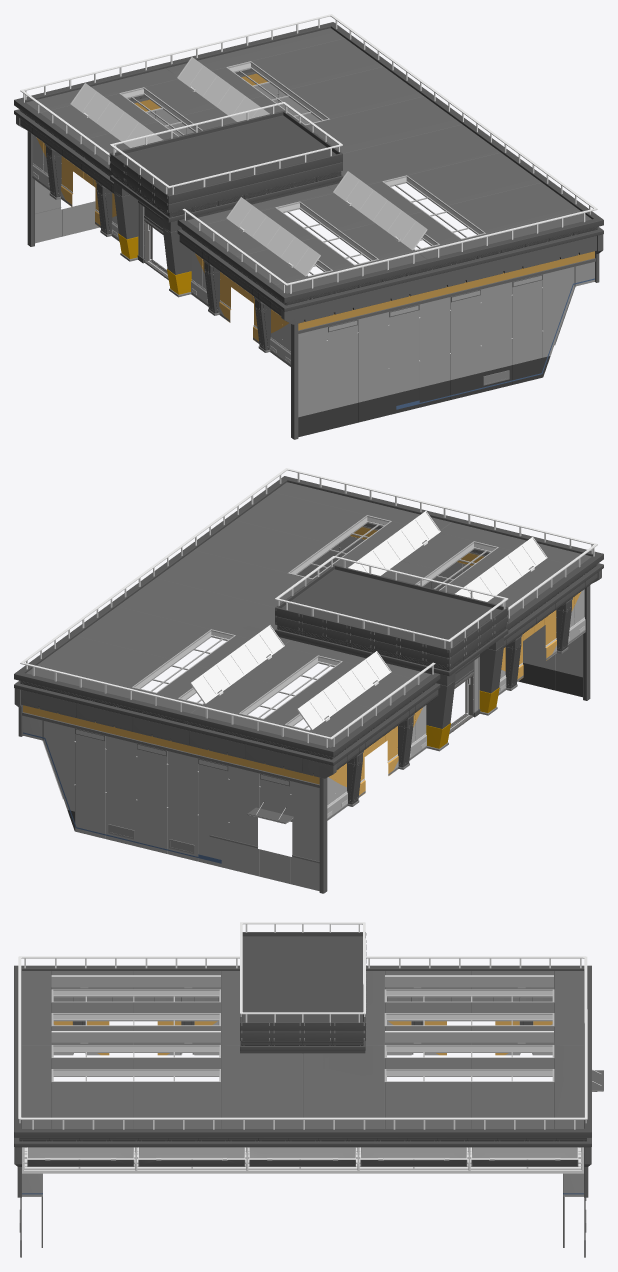
The picture shows the model from 3 angles, top to bottom: view 1: azimuth 30°, elevation 25°; view 2: azimuth 150°, elevation 25°; view 3: azimuth 270°, elevation 25°; orthographic projection. The views are drawn at different scales.
Parts seen in each view (by area): view 1: SM_H_Building_FutureTech_Dock_04; view 2: SM_H_Building_FutureTech_Dock_04; view 3: SM_H_Building_FutureTech_Dock_04.
Boxes of the visible parts, left/top/right/bottom form: SM_H_Building_FutureTech_Dock_04: left=14, top=14, right=603, bottom=439; SM_H_Building_FutureTech_Dock_04: left=14, top=468, right=603, bottom=893; SM_H_Building_FutureTech_Dock_04: left=14, top=922, right=603, bottom=1257.
Bounding box in the file's own units: 1612 × 1117 × 585.
